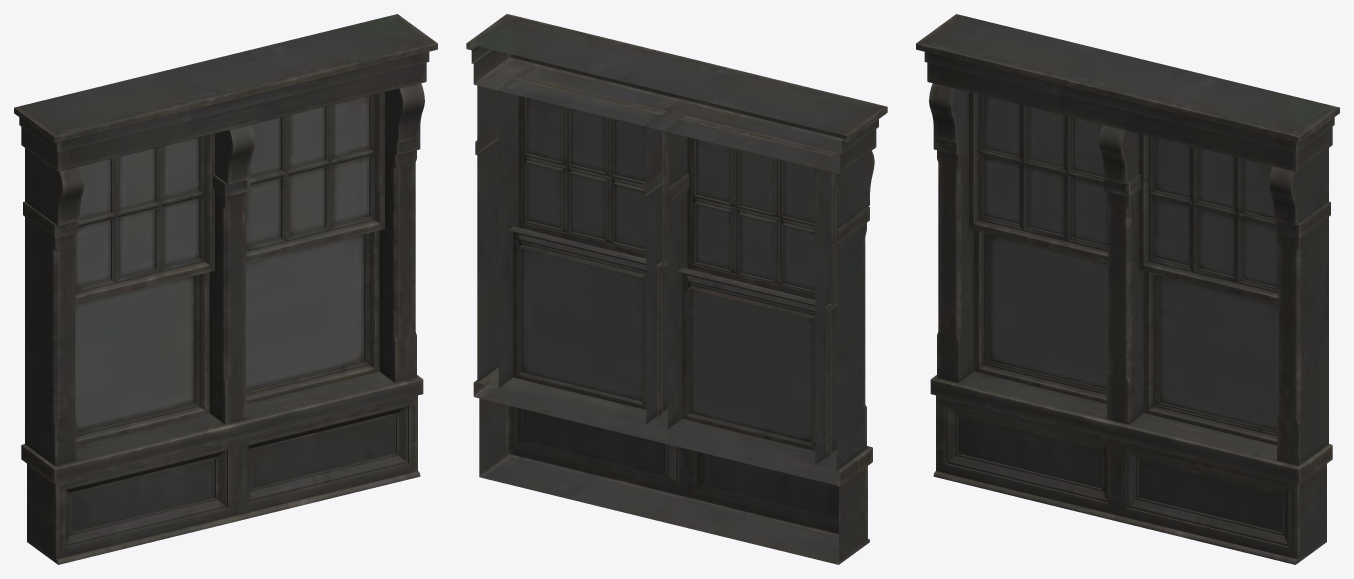
Rendered from window_urban.glb.
3 renders of one model, left to right at view 1: azimuth 30°, elevation 25°; view 2: azimuth 150°, elevation 25°; view 3: azimuth 330°, elevation 25°, orthographic.
Visible parts, largest first — view 1: window_centered_large_01; view 2: window_centered_large_01; view 3: window_centered_large_01.
Boxes of the visible parts, left/top/right/bottom form: window_centered_large_01: left=14, top=14, right=437, bottom=564; window_centered_large_01: left=466, top=14, right=887, bottom=564; window_centered_large_01: left=916, top=14, right=1339, bottom=564.
Bounding box in the file's own units: 2.12 × 2.3 × 0.39.
Materials: 2 (2 with a texture image).
